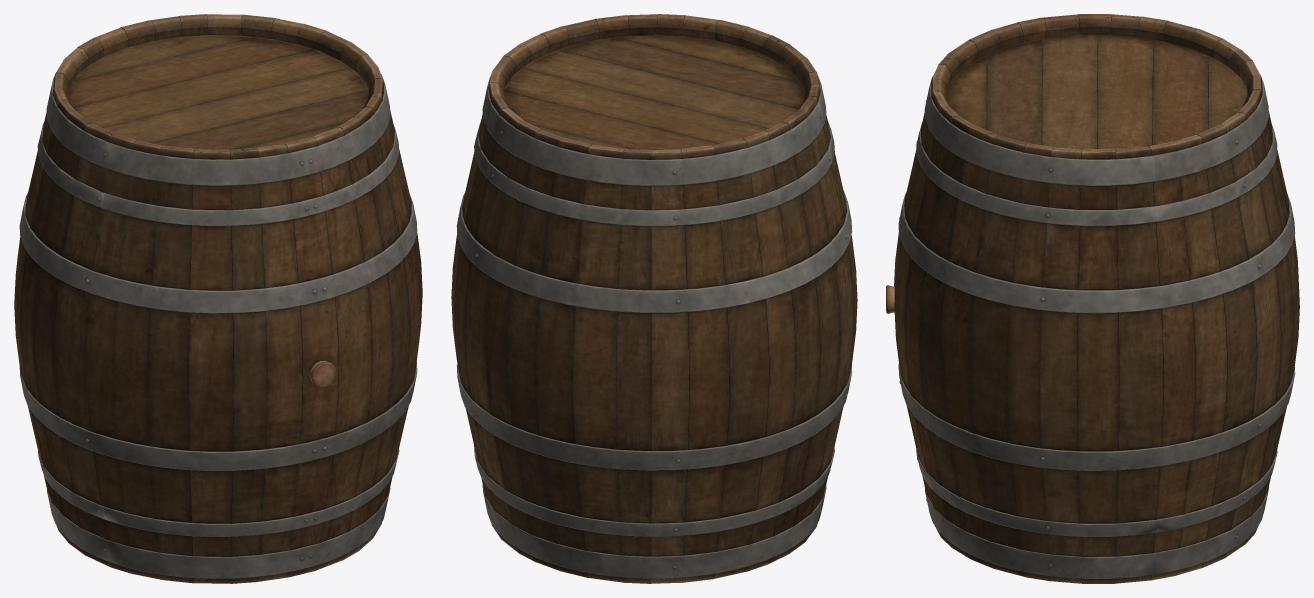
Rendered from wine_barrel.glb.
3 renders of one model, left to right at view 1: azimuth 30°, elevation 25°; view 2: azimuth 150°, elevation 25°; view 3: azimuth 270°, elevation 25°, orthographic.
Parts seen in each view (by area): view 1: wine_barrel_01, wine_barrel_01_Lid, wine_barrel_01_bung; view 2: wine_barrel_01, wine_barrel_01_Lid; view 3: wine_barrel_01, wine_barrel_01_Lid.
Boxes of the visible parts, x1,y1,x2,y2 form: wine_barrel_01: (14, 14, 422, 583); wine_barrel_01_Lid: (67, 35, 368, 149); wine_barrel_01_bung: (309, 361, 336, 388); wine_barrel_01: (451, 14, 857, 583); wine_barrel_01_Lid: (503, 35, 805, 152); wine_barrel_01: (894, 14, 1299, 583); wine_barrel_01_Lid: (946, 35, 1247, 149).
Bounding box in the file's own units: 0.7493 × 0.88 × 0.7636.
Materials: 1 (1 with a texture image).
